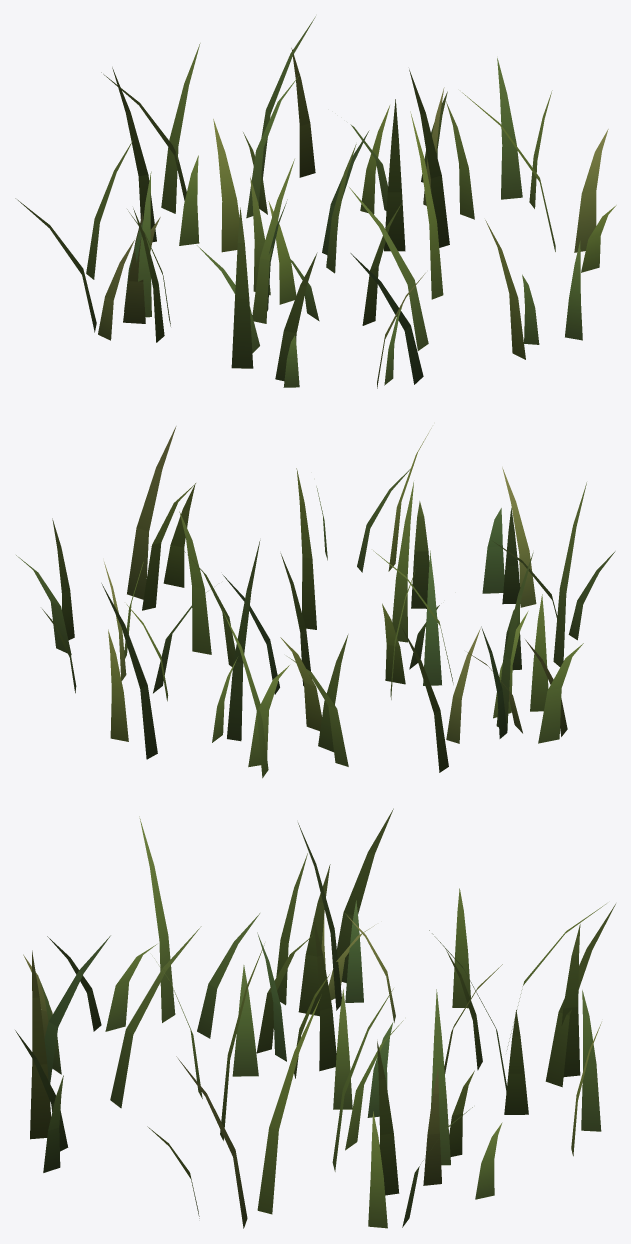
File: GR_plukje2.fbx
The picture shows the model from 3 angles, top to bottom: view 1: azimuth 30°, elevation 25°; view 2: azimuth 150°, elevation 25°; view 3: azimuth 270°, elevation 25°; orthographic projection. The views are drawn at different scales.
Visible parts, largest first — view 1: GR_plukje2; view 2: GR_plukje2; view 3: GR_plukje2.
Part boxes in pixels (<box>): GR_plukje2: <box>15,16,616,388</box>; GR_plukje2: <box>16,426,615,778</box>; GR_plukje2: <box>15,808,615,1228</box>.
Size of the model in its own units: 0.3289 by 0.1043 by 0.2918.
1 material, 1 textured.
